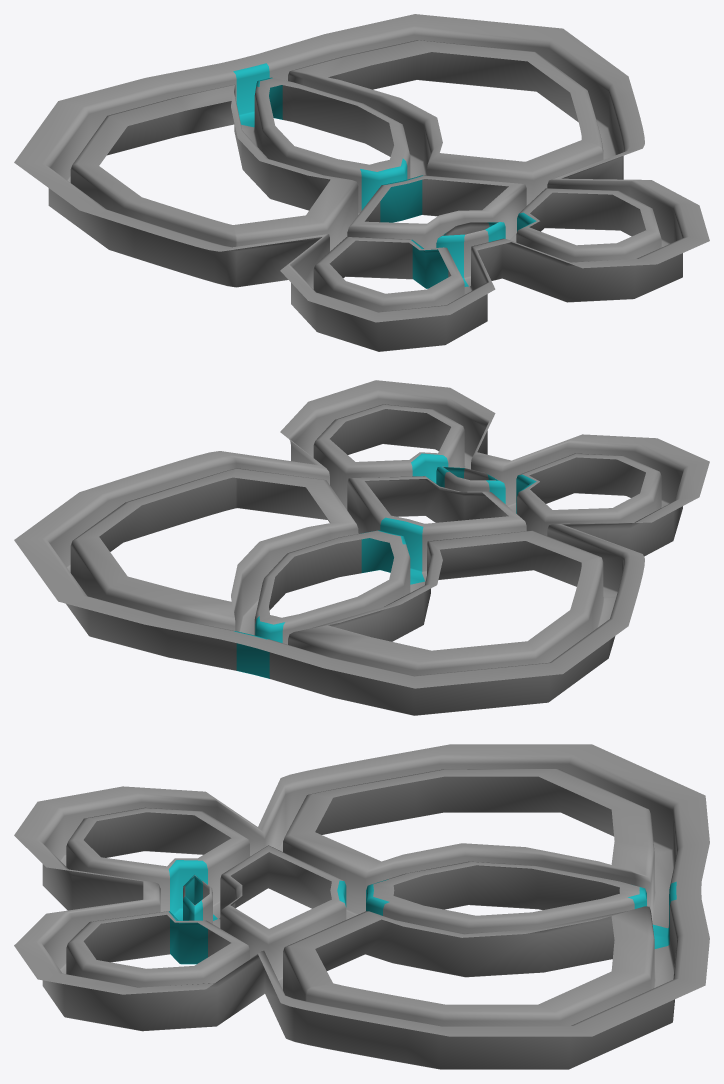
Rendered from Level_07.FBX.
3 renders of one model, top to bottom at view 1: azimuth 30°, elevation 25°; view 2: azimuth 150°, elevation 25°; view 3: azimuth 270°, elevation 25°, orthographic. The views are drawn at different scales.
Parts seen in each view (by area): view 1: Layout_Level7; view 2: Layout_Level7; view 3: Layout_Level7.
Boxes of the visible parts, box(x1,y1,x2,y2) form: Layout_Level7: box(14, 14, 709, 351); Layout_Level7: box(14, 380, 709, 715); Layout_Level7: box(14, 744, 709, 1069).
Bounding box in the file's own units: 12436 × 924 × 12517.
